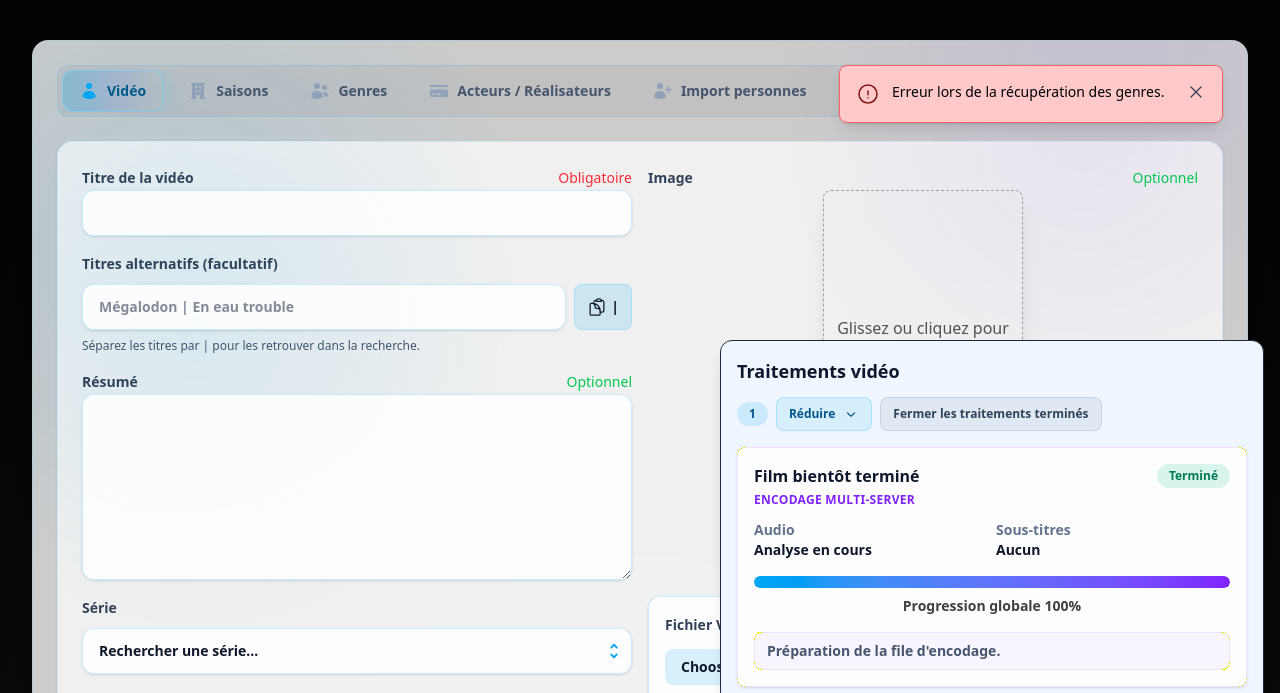
FormNewVideoPage - suivi multi-server persistant › conserve un job terminé pour vérification puis permet de fermer la section
Check: the heading "Traitements vidéo" is shown, box [737,357,900,385]
Check: the text "Film bientôt terminé" is shown, box [754,464,920,488]
Click the button "Fermer les traitements terminés": {"x": 991, "y": 414} [880,397,1102,431]
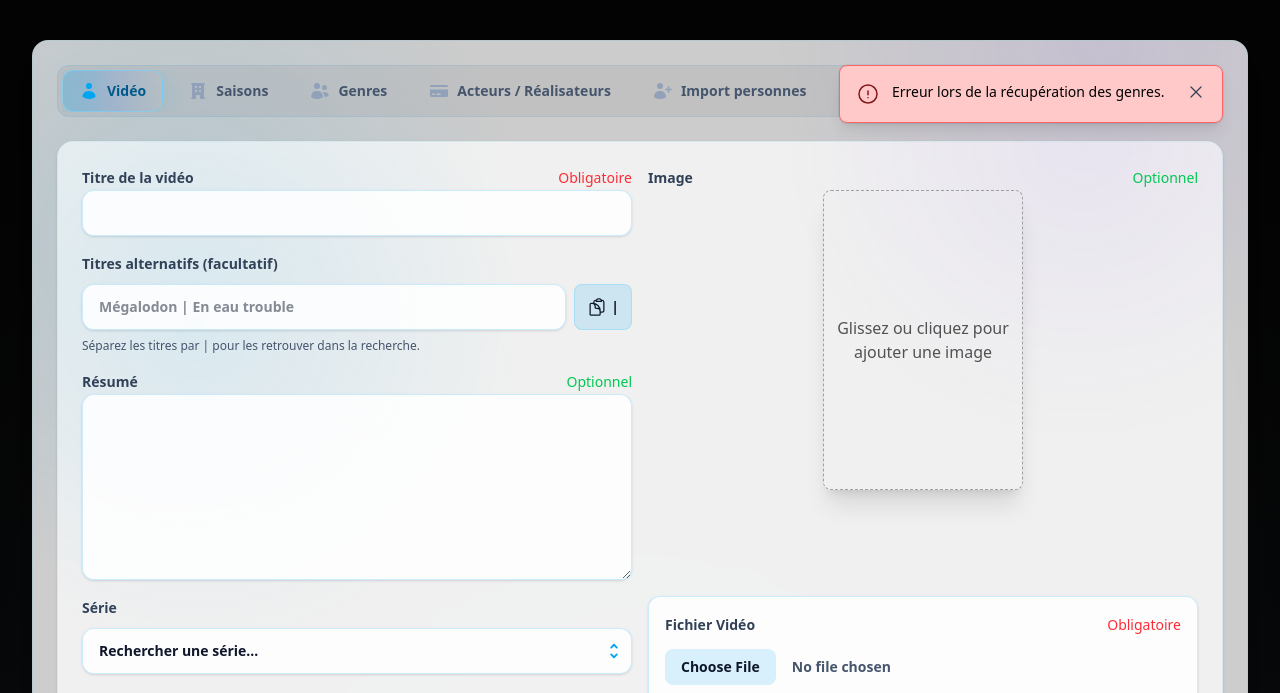
Check: the text "Film bientôt terminé" is gone
Check: the heading "Traitements vidéo" is gone
